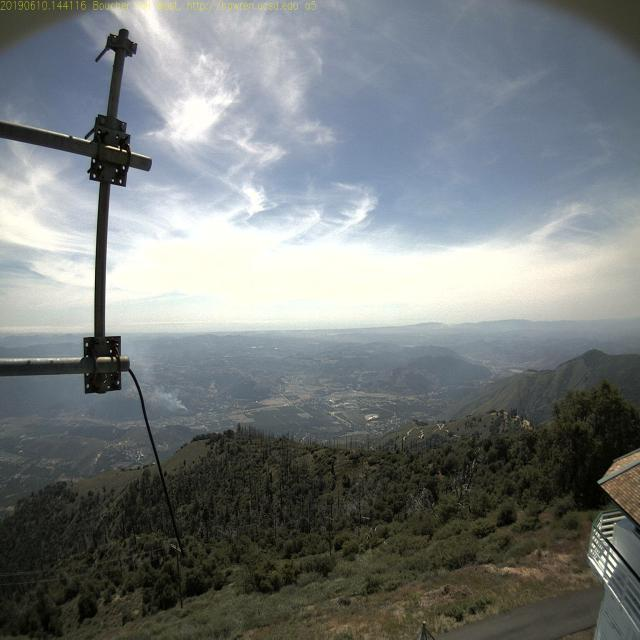smoke: (171, 392, 195, 421)
